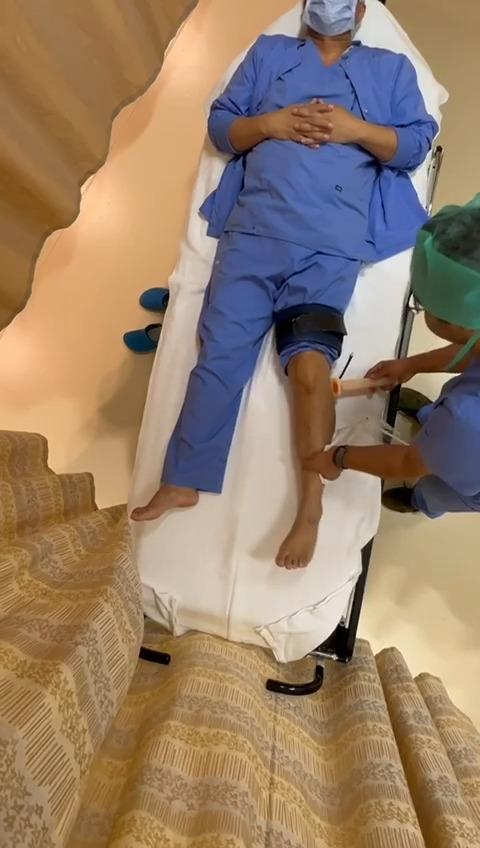bed: (98, 0, 446, 665)
patient: (131, 0, 437, 569)
prepstick: (332, 376, 385, 396)
tourniquet: (275, 303, 345, 371)
